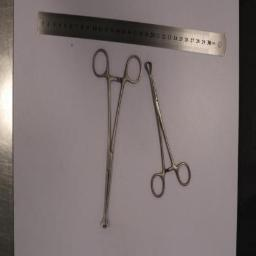Babcock Tissue Forceps: (145, 61, 191, 197)
